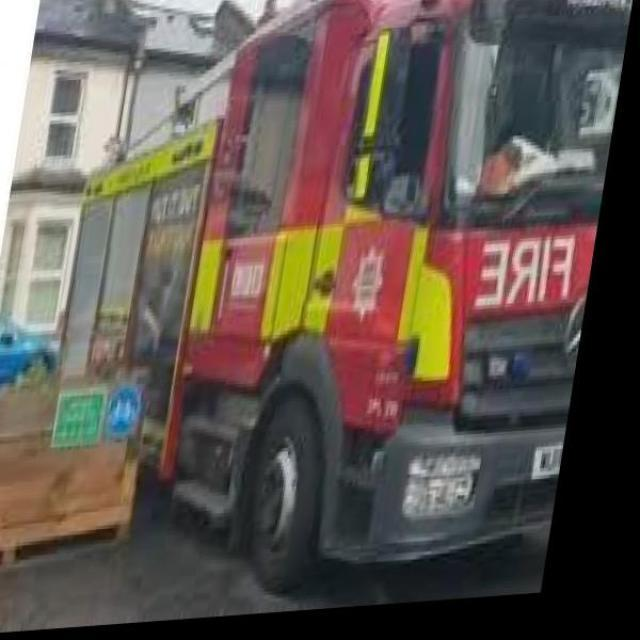emergency: (55, 0, 630, 594)
